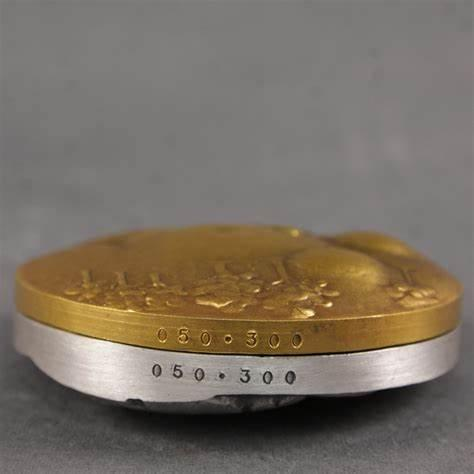metal: (14, 225, 463, 414)
